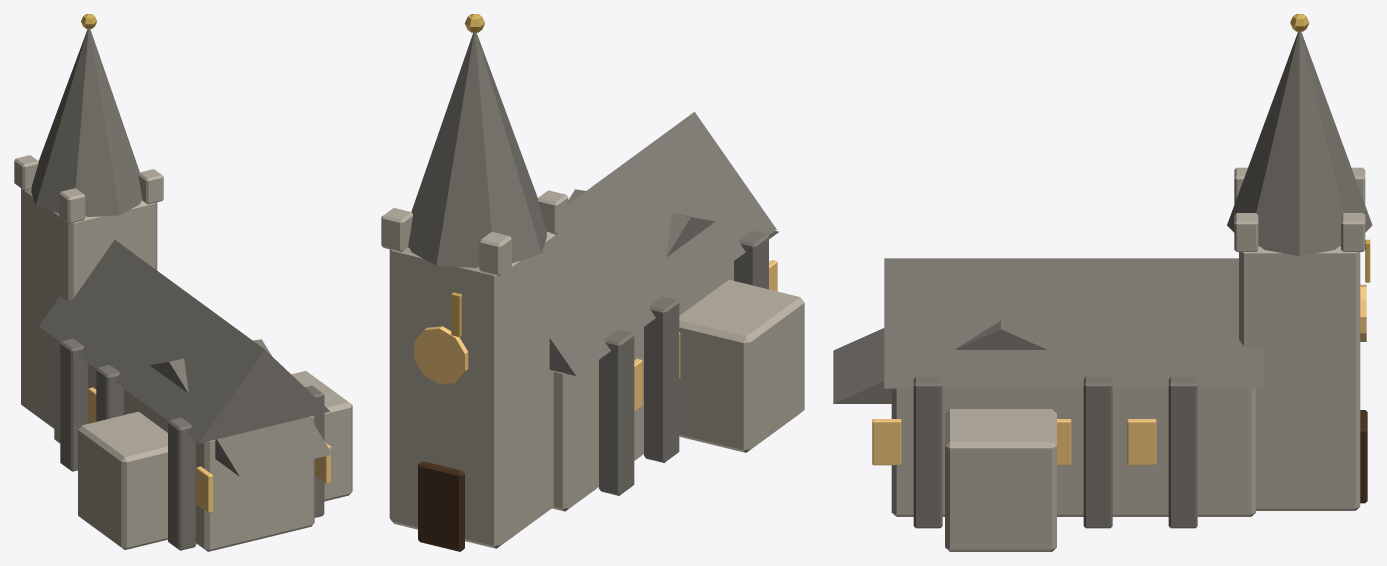
The model's file is world_cathedral.fbx.
3 renders of one model, left to right at view 1: azimuth 30°, elevation 25°; view 2: azimuth 150°, elevation 25°; view 3: azimuth 270°, elevation 25°, orthographic. The views are drawn at different scales.
Parts seen in each view (by area): view 1: Building; view 2: Building; view 3: Building.
Boxes of the visible parts, x1,y1,x2,y2 form: Building: (14,14,352,551); Building: (381,14,804,551); Building: (833,14,1372,551).
Bounding box in the file's own units: 1.3 × 2.22 × 2.18.
